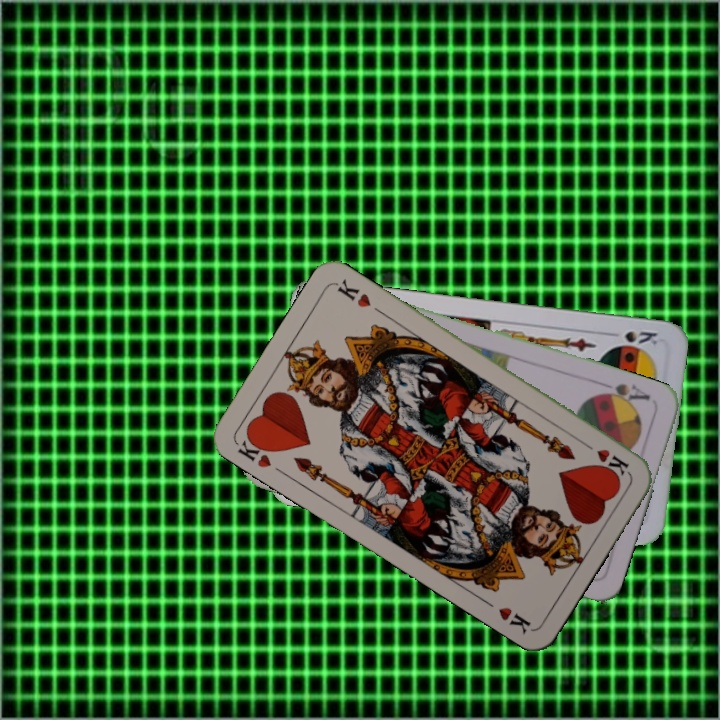HK: (578, 437, 632, 479), (233, 430, 277, 471)
SA: (596, 379, 653, 409)
SK: (620, 327, 660, 348)
